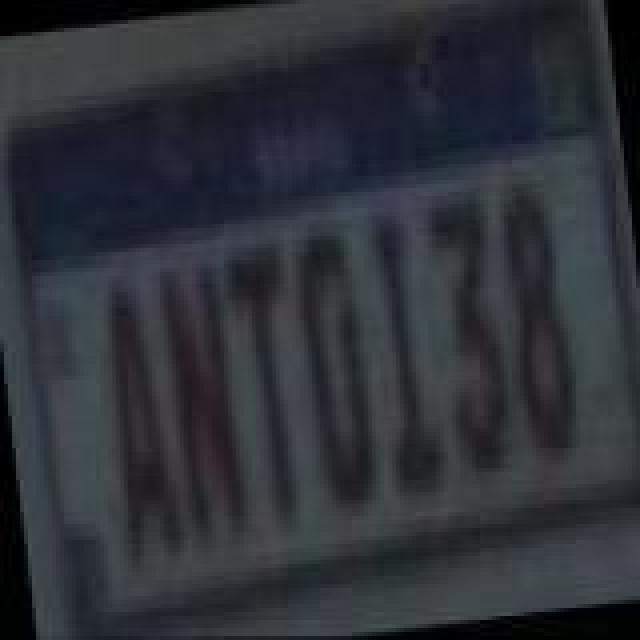3: (424, 196, 520, 488)
8: (490, 184, 582, 464)
A: (94, 276, 186, 572)
D: (288, 222, 384, 518)
I: (358, 210, 450, 506)
N: (152, 256, 248, 556)
T: (218, 234, 310, 530)
